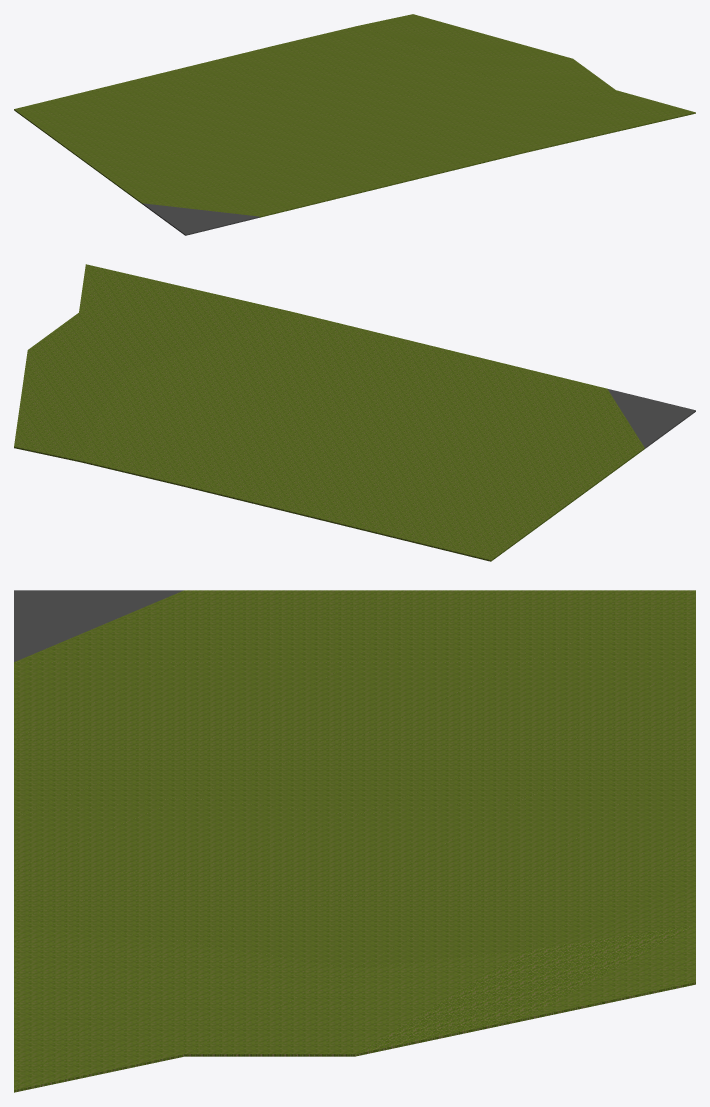
3 views of the same model, one above another, from view 1: azimuth 30°, elevation 25°; view 2: azimuth 150°, elevation 25°; view 3: azimuth 270°, elevation 25° (orthographic). The views are drawn at different scales.
Parts seen in each view (by area): view 1: d0_base_plate-col; view 2: d0_base_plate-col; view 3: d0_base_plate-col.
Boxes of the visible parts, box(x1,y1,x2,y2) form: d0_base_plate-col: box(14, 14, 695, 235); d0_base_plate-col: box(14, 264, 695, 561); d0_base_plate-col: box(14, 590, 695, 1092).
Size of the model in its own units: 440 by 2.92 by 256.
Materials: 2 (1 with a texture image).
